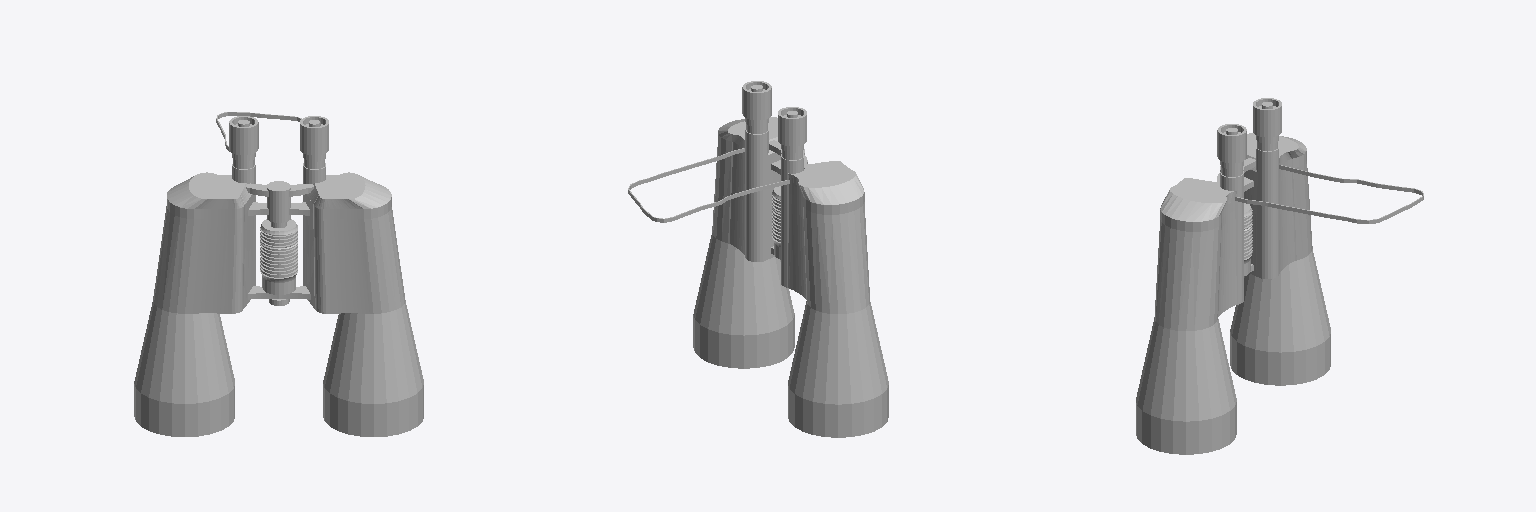
Rendered from Binoculos.obj.
3 renders of one model, left to right at view 1: azimuth 30°, elevation 25°; view 2: azimuth 150°, elevation 25°; view 3: azimuth 270°, elevation 25°, orthographic.
Parts seen in each view (by area): view 1: Mesh1 Component_11_1 Model, Mesh3 Component_11_1 Model, Mesh2 Component_11_1 Model; view 2: Mesh1 Component_11_1 Model, Mesh3 Component_11_1 Model; view 3: Mesh1 Component_11_1 Model, Mesh3 Component_11_1 Model.
Boxes of the visible parts, x1=… form: Mesh1 Component_11_1 Model: x1=134, y1=112, x2=423, y2=436; Mesh3 Component_11_1 Model: x1=248, y1=219, x2=310, y2=305; Mesh2 Component_11_1 Model: x1=246, y1=181, x2=313, y2=227; Mesh1 Component_11_1 Model: x1=628, y1=81, x2=888, y2=437; Mesh3 Component_11_1 Model: x1=771, y1=186, x2=780, y2=259; Mesh1 Component_11_1 Model: x1=1136, y1=98, x2=1423, y2=454; Mesh3 Component_11_1 Model: x1=1244, y1=203, x2=1253, y2=275.
Bounding box in the file's own units: 0.7786 × 0.9274 × 0.8486.